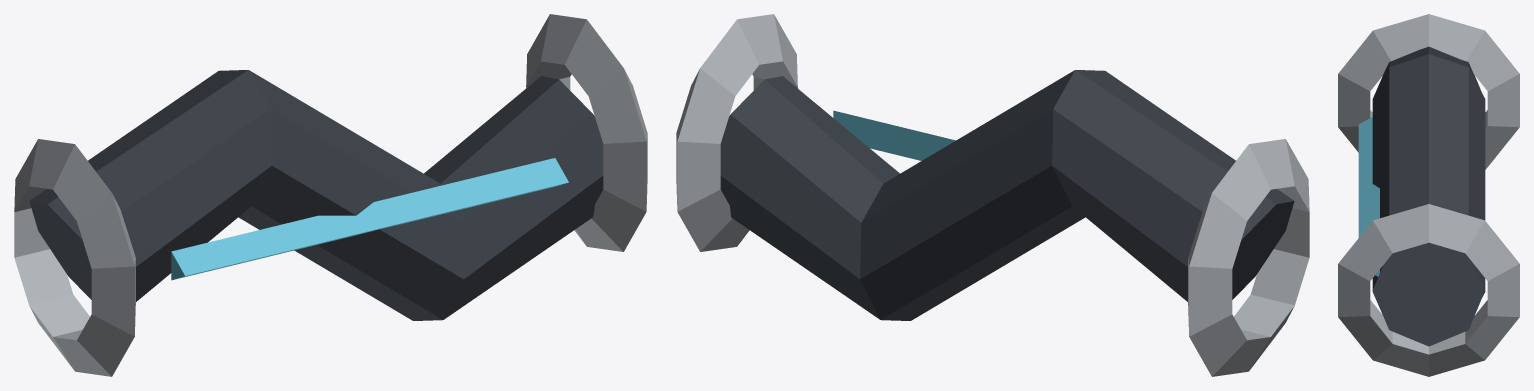
The model's file is mod-channel.glb.
3 renders of one model, left to right at view 1: azimuth 30°, elevation 25°; view 2: azimuth 150°, elevation 25°; view 3: azimuth 270°, elevation 25°, orthographic. The views are drawn at different scales.
Parts seen in each view (by area): view 1: m; view 2: m; view 3: m.
Part boxes in pixels (bbox=[...]): m: bbox=[14, 14, 647, 376]; m: bbox=[676, 14, 1309, 376]; m: bbox=[1338, 14, 1519, 376].
Size of the model in its own units: 0.08 by 0.0393 by 0.0292.
